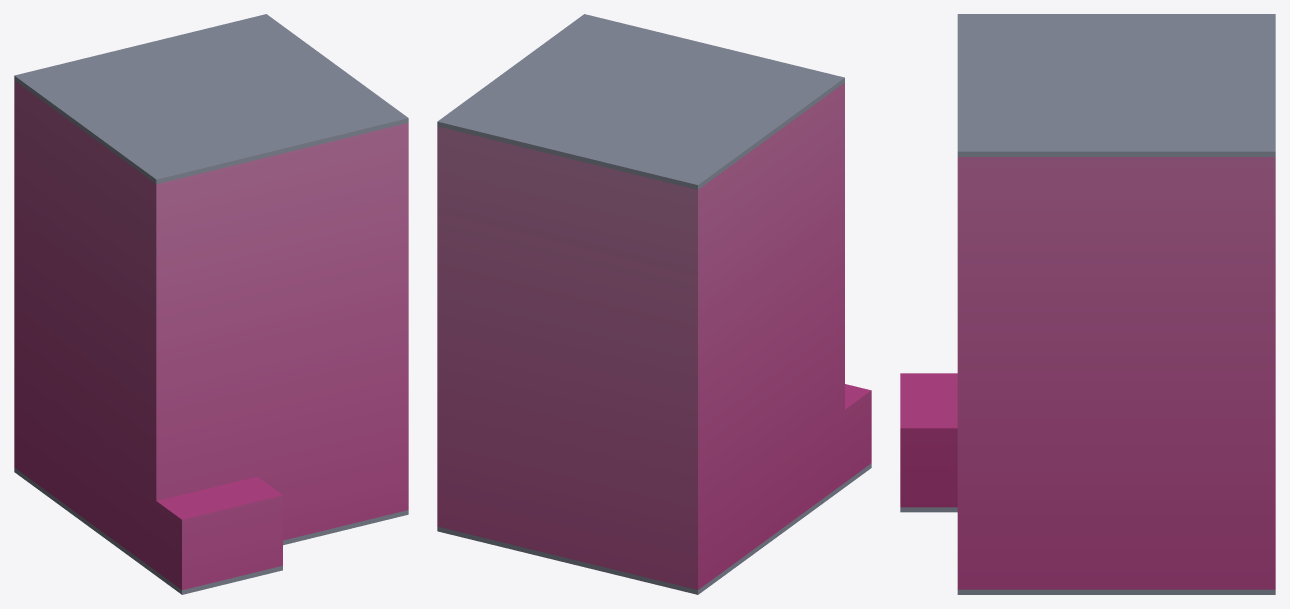
Rendered from squidgame_background_map5.fbx.
The picture shows the model from 3 angles, left to right: view 1: azimuth 30°, elevation 25°; view 2: azimuth 150°, elevation 25°; view 3: azimuth 270°, elevation 25°; orthographic projection. The views are drawn at different scales.
Visible parts, largest first — view 1: squidgame_background_map5_wall, squidgame_background_map5_roof, squidgame_background_map5_floor; view 2: squidgame_background_map5_wall, squidgame_background_map5_roof, squidgame_background_map5_floor; view 3: squidgame_background_map5_wall, squidgame_background_map5_roof, squidgame_background_map5_floor.
Boxes of the visible parts, <box> form: squidgame_background_map5_wall: <box>14,80,408,590</box>; squidgame_background_map5_roof: <box>14,14,408,184</box>; squidgame_background_map5_floor: <box>14,467,408,594</box>; squidgame_background_map5_wall: <box>437,83,871,589</box>; squidgame_background_map5_roof: <box>437,14,844,189</box>; squidgame_background_map5_floor: <box>437,463,871,594</box>; squidgame_background_map5_wall: <box>900,157,1275,589</box>; squidgame_background_map5_roof: <box>957,14,1275,156</box>; squidgame_background_map5_floor: <box>900,507,1275,594</box>.
Size of the model in its own units: 22.5 by 33.8 by 25.94.
